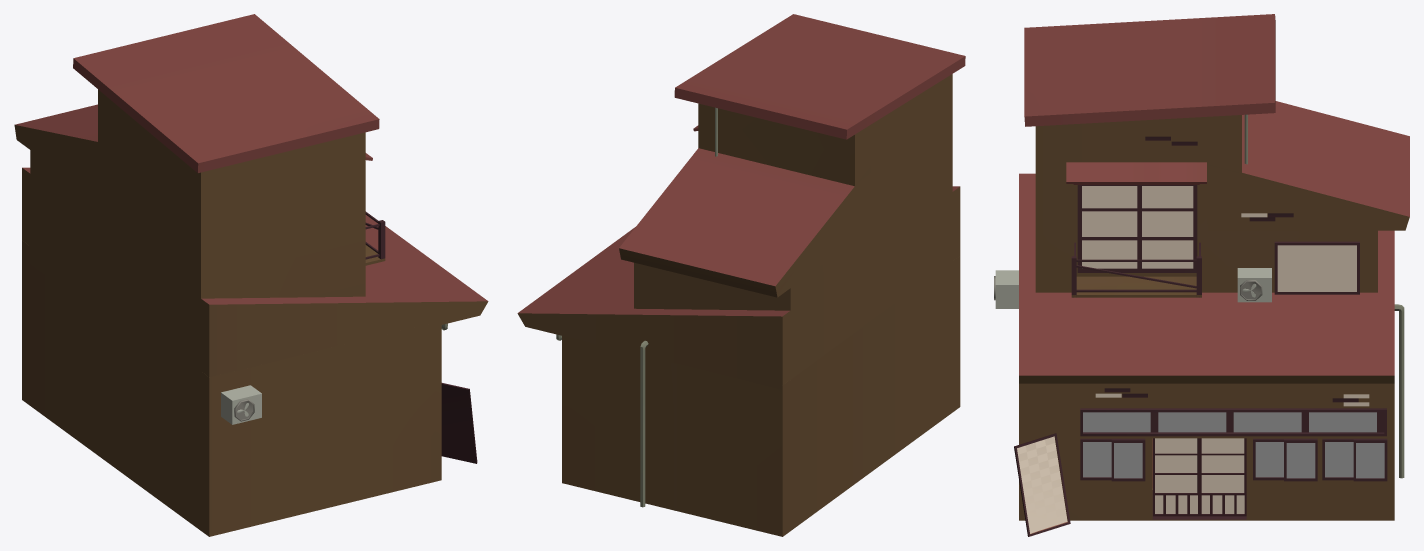
Rendered from apartment_neighbor.fbx.
3 views of the same model, side by side, from view 1: azimuth 30°, elevation 25°; view 2: azimuth 150°, elevation 25°; view 3: azimuth 270°, elevation 25° (orthographic). The views are drawn at different scales.
Visible parts, largest first — view 1: polySurface1338, polySurface1898, polySurface1331, polySurface1328, polySurface1871, polySurface1902; view 2: polySurface1898, polySurface1338, polySurface1328, polySurface1331, polySurface1345; view 3: polySurface1338, polySurface1331, polySurface1898, polySurface1328, polySurface1335, polySurface1321, polySurface1330, polySurface1871, polySurface1887, polySurface1888, polySurface1322, polySurface1323 (+10 smaller).
Boxes of the visible parts, box(x1,y1,x2,y2) form: polySurface1338: box(30, 14, 379, 387); polySurface1898: box(22, 240, 441, 536); polySurface1331: box(22, 167, 488, 377); polySurface1328: box(14, 104, 114, 211); polySurface1871: box(441, 383, 477, 463); polySurface1902: box(221, 385, 261, 424); polySurface1898: box(562, 256, 960, 536); polySurface1338: box(634, 14, 965, 379); polySurface1328: box(619, 148, 870, 297); polySurface1331: box(517, 186, 960, 389); polySurface1345: box(640, 340, 648, 507); polySurface1338: box(1024, 14, 1377, 292); polySurface1331: box(1019, 173, 1394, 383); polySurface1898: box(1019, 383, 1394, 520); polySurface1328: box(1207, 101, 1409, 230); polySurface1335: box(1077, 185, 1197, 272); polySurface1321: box(1080, 408, 1386, 436); polySurface1330: box(1274, 241, 1359, 294); polySurface1871: box(1014, 433, 1070, 536); polySurface1887: box(1199, 438, 1246, 516); polySurface1888: box(1153, 438, 1199, 516); polySurface1322: box(1066, 162, 1206, 184); polySurface1323: box(1071, 276, 1201, 297).
Size of the model in its own units: 59.97 by 77.19 by 74.83.
Materials: 3 (1 with a texture image).
